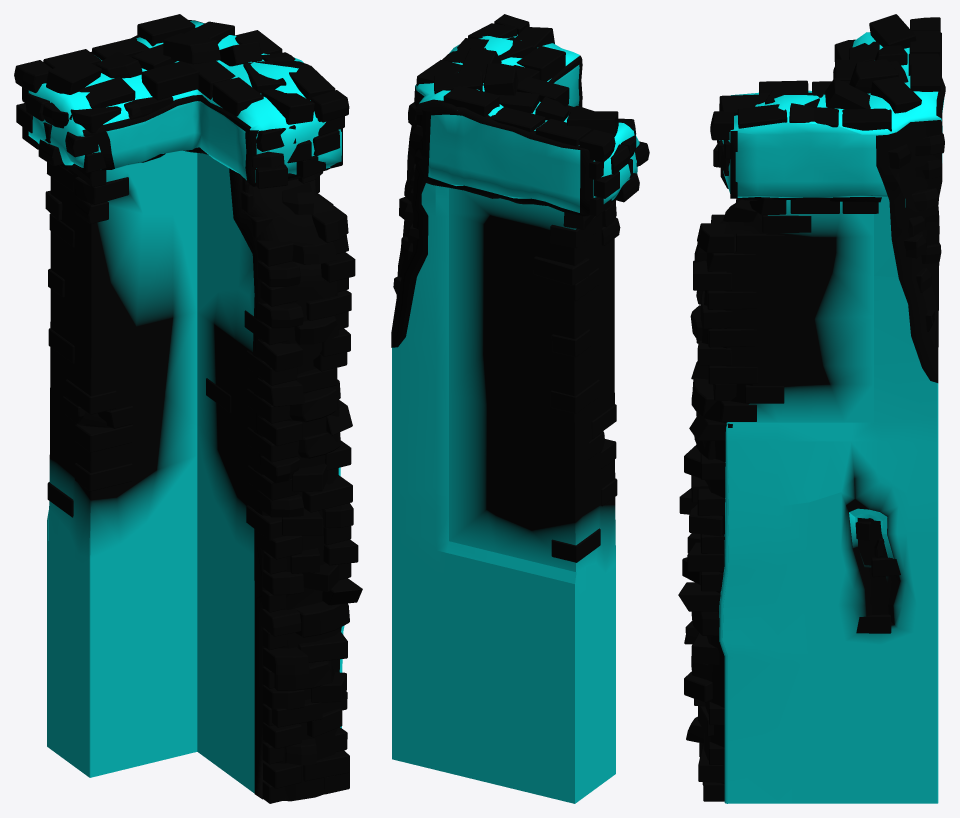
File: Fence7.fbx
3 renders of one model, left to right at view 1: azimuth 30°, elevation 25°; view 2: azimuth 150°, elevation 25°; view 3: azimuth 270°, elevation 25°, orthographic. The views are drawn at different scales.
Parts seen in each view (by area): view 1: SM_Ind_WL_Br_Corner01.mo; view 2: SM_Ind_WL_Br_Corner01.mo; view 3: SM_Ind_WL_Br_Corner01.mo.
Boxes of the visible parts, bbox=[...] form: SM_Ind_WL_Br_Corner01.mo: bbox=[14, 14, 362, 803]; SM_Ind_WL_Br_Corner01.mo: bbox=[391, 14, 649, 803]; SM_Ind_WL_Br_Corner01.mo: bbox=[678, 14, 945, 803].
Size of the model in its own units: 156 by 468 by 162.
